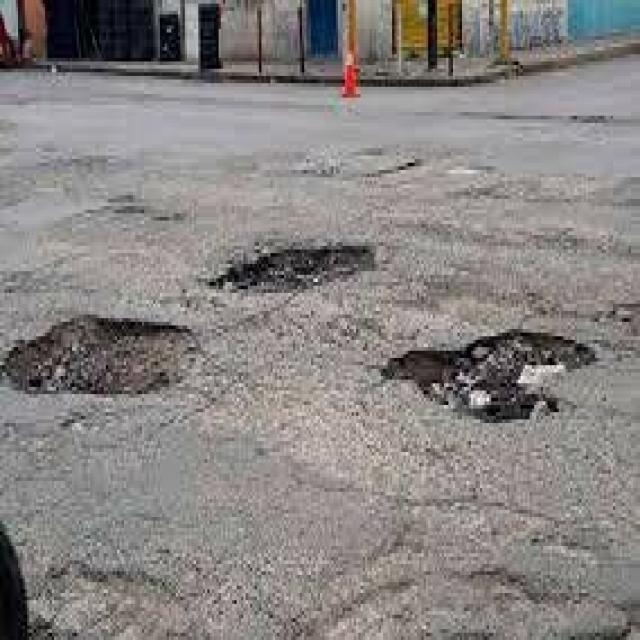Pothole: (382, 330, 594, 422), (2, 315, 190, 393), (209, 239, 375, 292)
